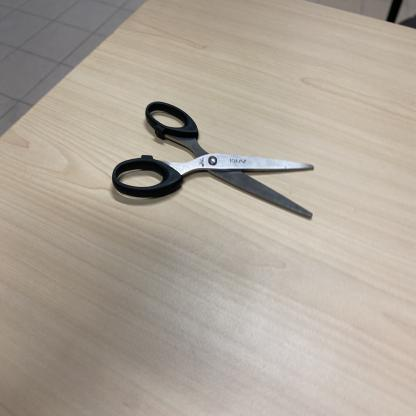scissors: (112, 100, 316, 223)
